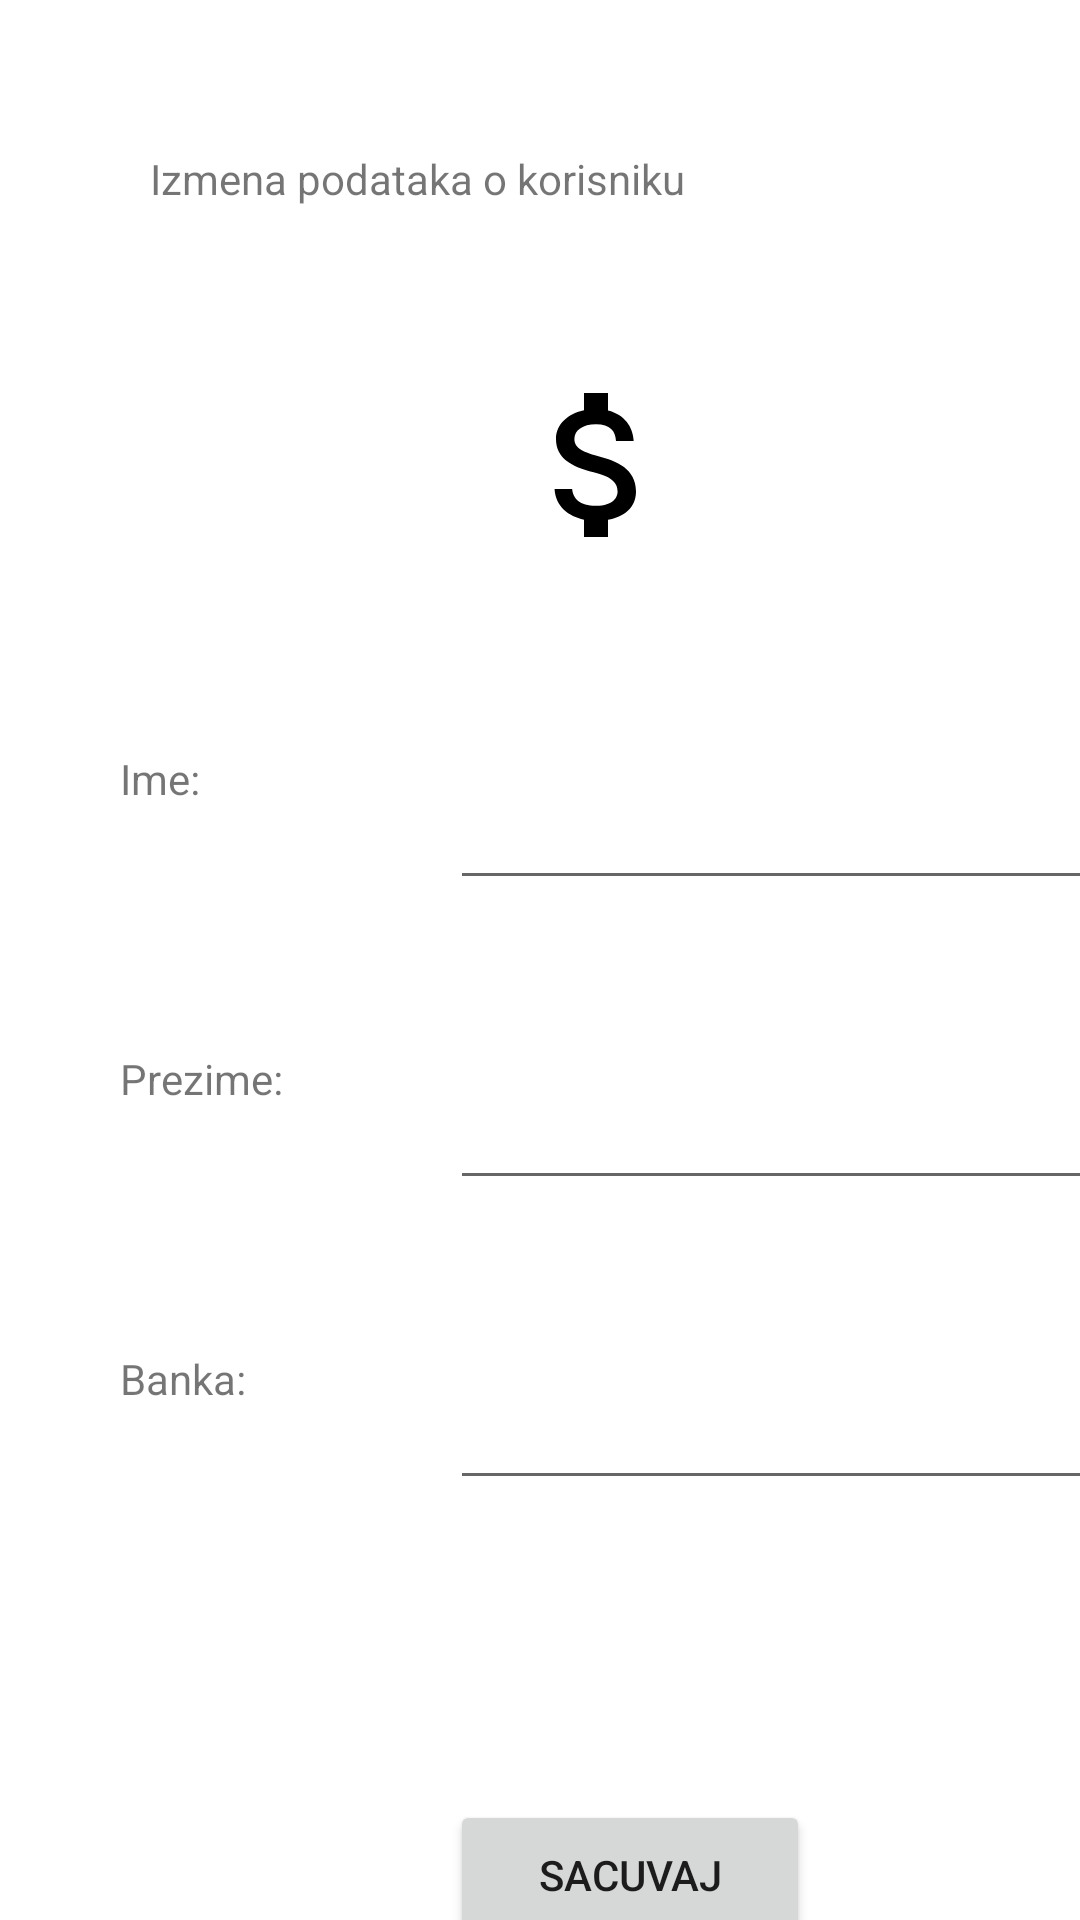

Point at icon controls on the screen. Image size 1080w x 1920h, points as point (x, y).
bigmoney: point (595, 465)
